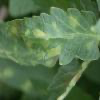Tomato mold leaf: (5, 6, 99, 69)
